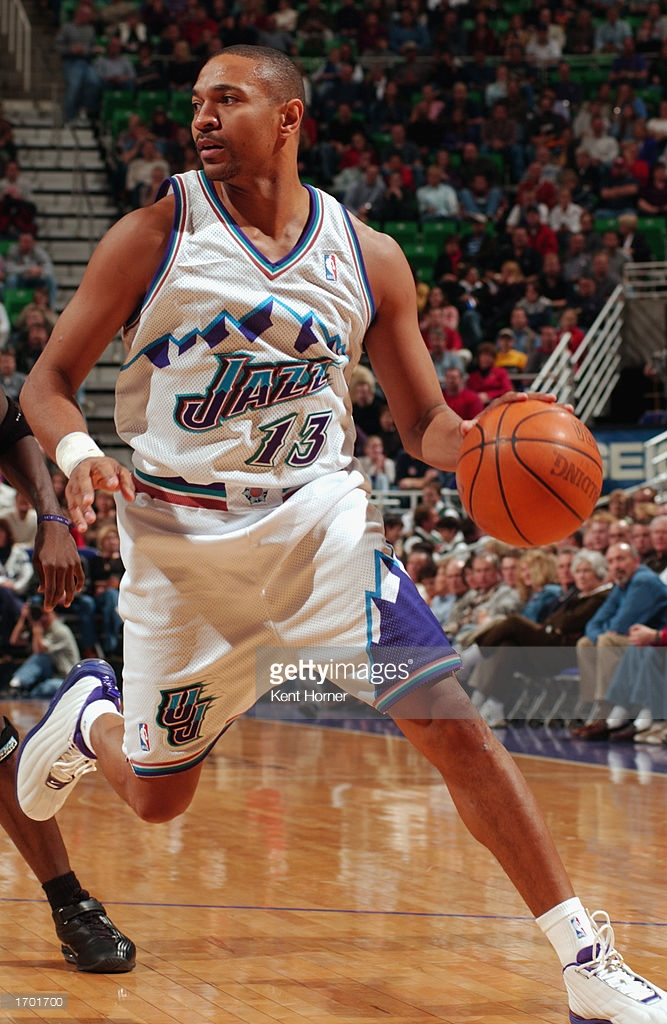ball: (464, 413, 593, 540)
player: (143, 68, 537, 897)
